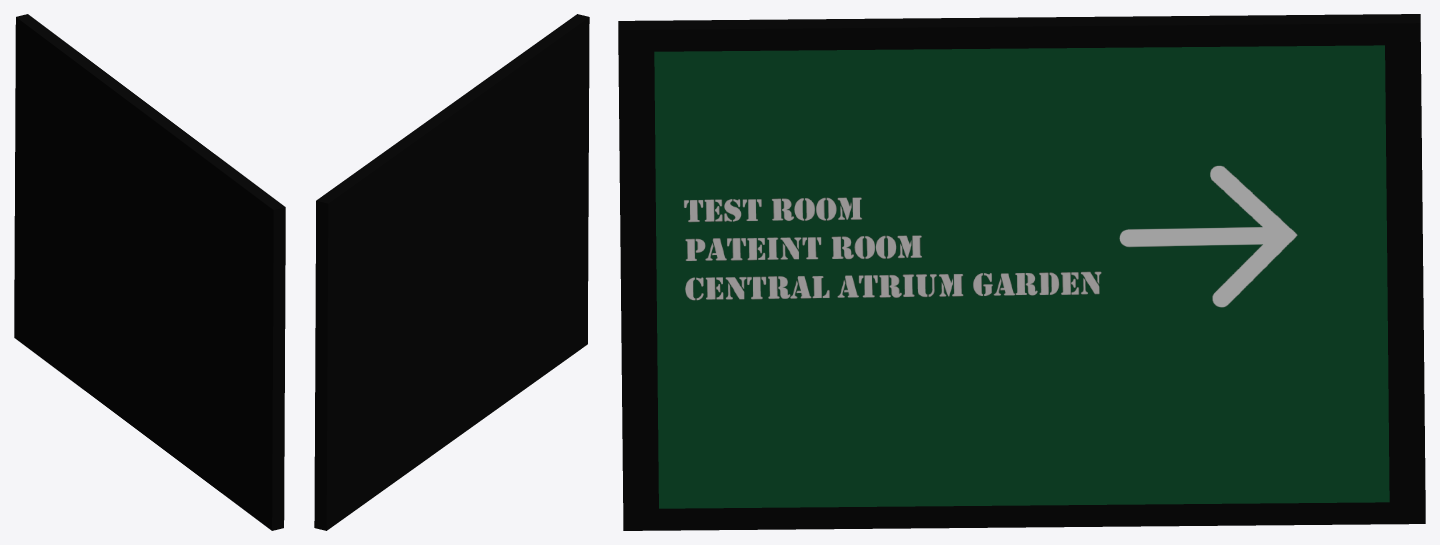
Rendered from signboard 2 .fbx.
The picture shows the model from 3 angles, left to right: view 1: azimuth 30°, elevation 25°; view 2: azimuth 150°, elevation 25°; view 3: azimuth 270°, elevation 25°; orthographic projection. The views are drawn at different scales.
Visible parts, largest first — view 1: Cube.001; view 2: Cube.001; view 3: Cube.001.
Part boxes in pixels (bbox=[...]): Cube.001: bbox=[14, 14, 285, 530]; Cube.001: bbox=[314, 14, 589, 530]; Cube.001: bbox=[618, 14, 1425, 530].
Bounding box in the file's own units: 17.62 × 457 × 658.
2 materials, 1 textured.
